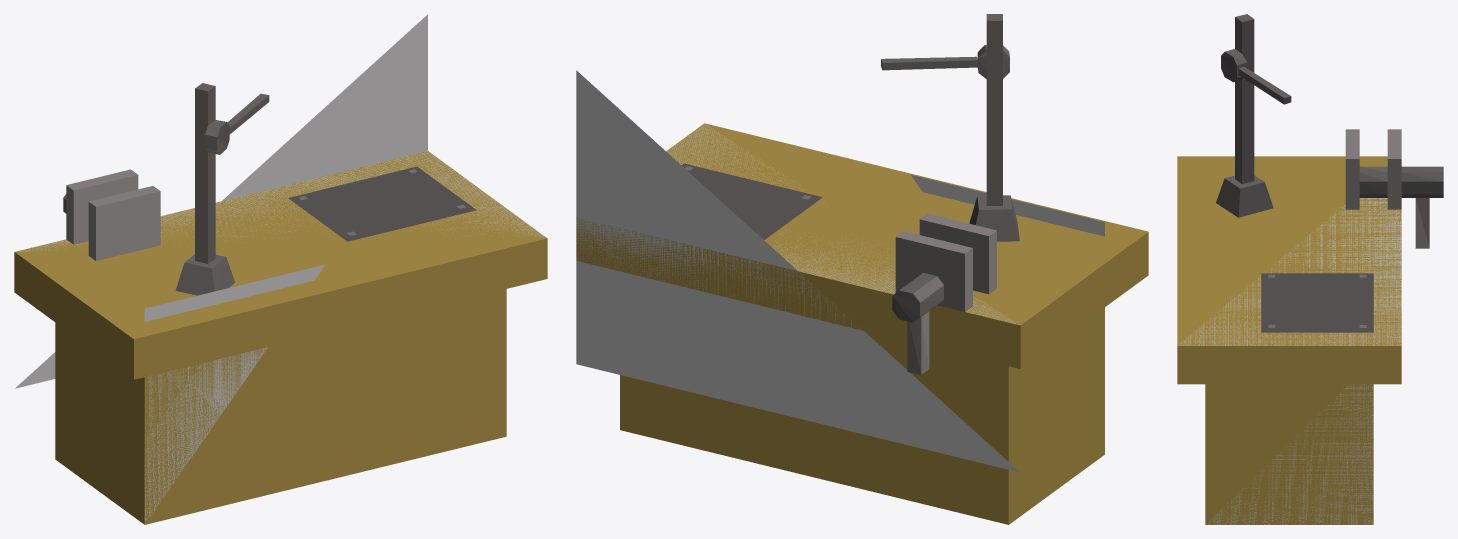
The model's file is Workbench.fbx.
3 renders of one model, left to right at view 1: azimuth 30°, elevation 25°; view 2: azimuth 150°, elevation 25°; view 3: azimuth 270°, elevation 25°, orthographic. The views are drawn at different scales.
Parts seen in each view (by area): view 1: Object Workbench 2026-07-31_21-39-33; view 2: Object Workbench 2026-07-31_21-39-33; view 3: Object Workbench 2026-07-31_21-39-33.
Boxes of the visible parts, x1=… form: Object Workbench 2026-07-31_21-39-33: x1=14, y1=14, x2=547, y2=524; Object Workbench 2026-07-31_21-39-33: x1=576, y1=14, x2=1148, y2=524; Object Workbench 2026-07-31_21-39-33: x1=1177, y1=14, x2=1443, y2=524.
Size of the model in its own units: 25600 by 23800 by 15200.
